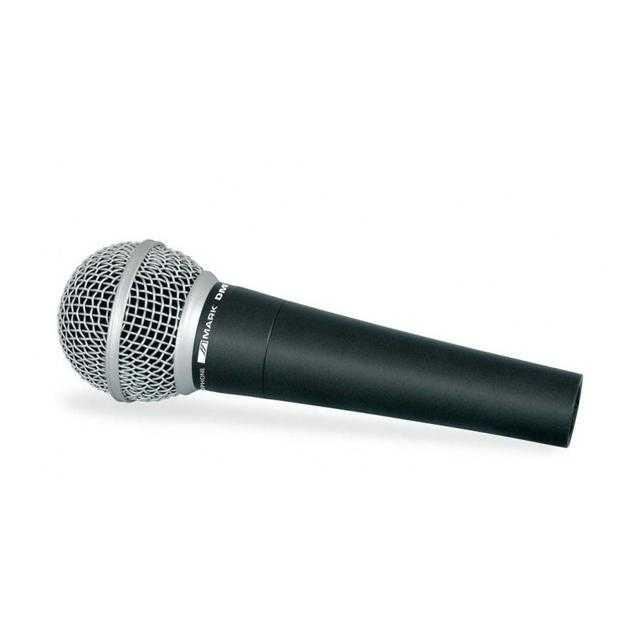microphone: (61, 236, 570, 449)
